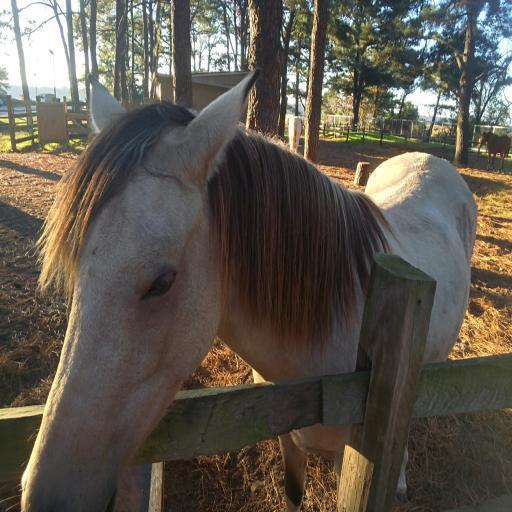horse: (19, 66, 478, 510)
